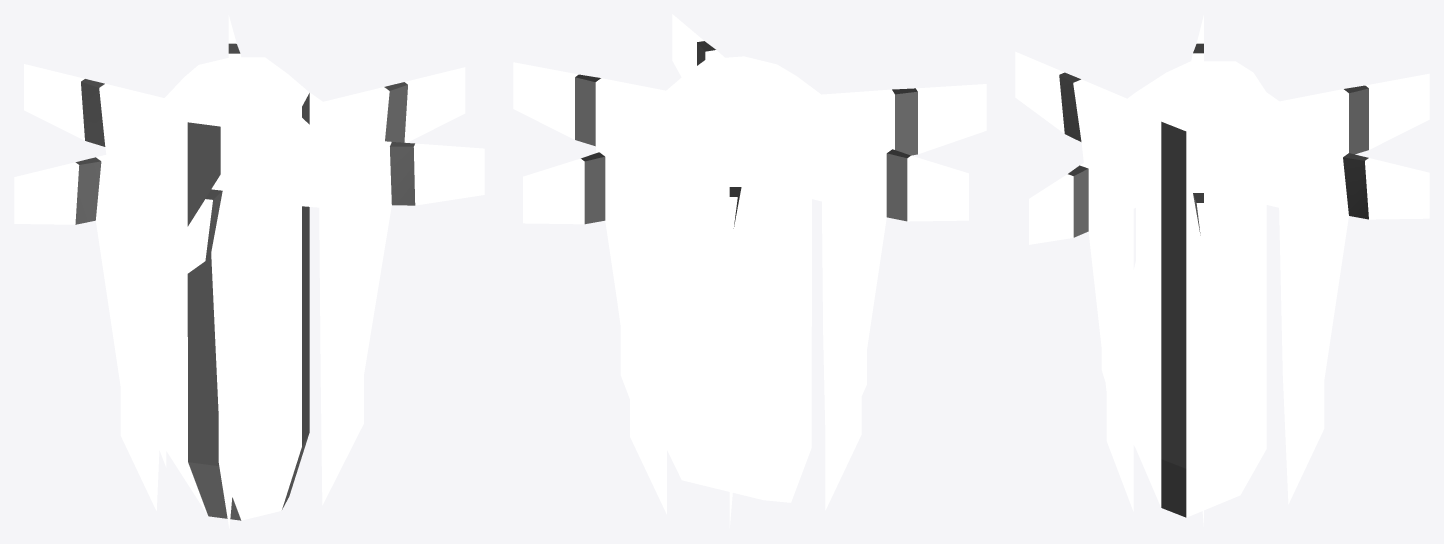
Rendered from ship_28_13029.glb.
The picture shows the model from 3 angles, left to right: view 1: azimuth 30°, elevation 25°; view 2: azimuth 150°, elevation 25°; view 3: azimuth 270°, elevation 25°; orthographic projection.
Visible parts, largest first — view 1: group_19; view 2: group_19; view 3: group_19.
Boxes of the visible parts, x1,y1,x2,y2 form: group_19: (14,15,484,528); group_19: (513,14,986,527); group_19: (1015,15,1429,526).
Bounding box in the file's own units: 1109 × 989 × 889.
Materials: 2 (2 with a texture image).
